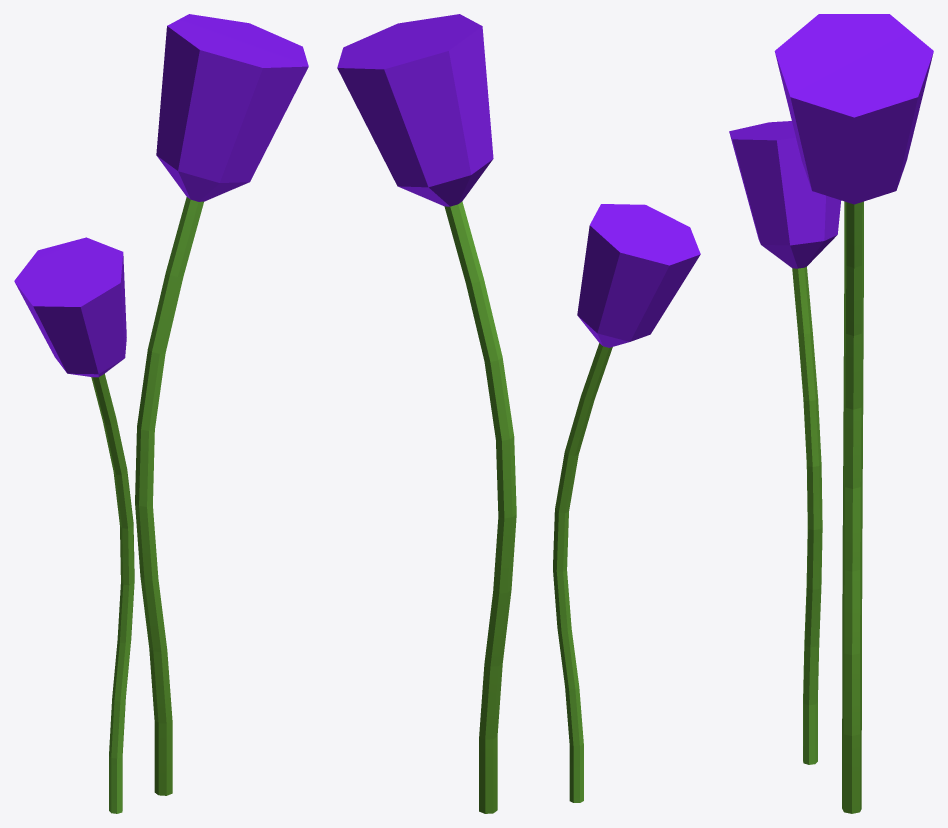
The model's file is Flower_3.fbx.
3 views of the same model, side by side, from view 1: azimuth 30°, elevation 25°; view 2: azimuth 150°, elevation 25°; view 3: azimuth 270°, elevation 25° (orthographic). The views are drawn at different scales.
Parts seen in each view (by area): view 1: Flower 3; view 2: Flower 3; view 3: Flower 3.
Boxes of the visible parts, bbox=[...] form: Flower 3: bbox=[14, 14, 308, 813]; Flower 3: bbox=[337, 14, 700, 813]; Flower 3: bbox=[729, 14, 933, 813].
Size of the model in its own units: 32.12 by 74.28 by 17.1.
